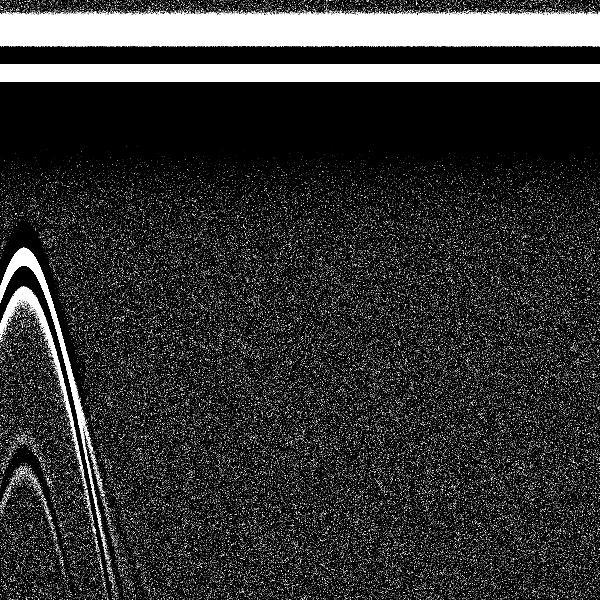pipe: (1, 4, 69, 324)
